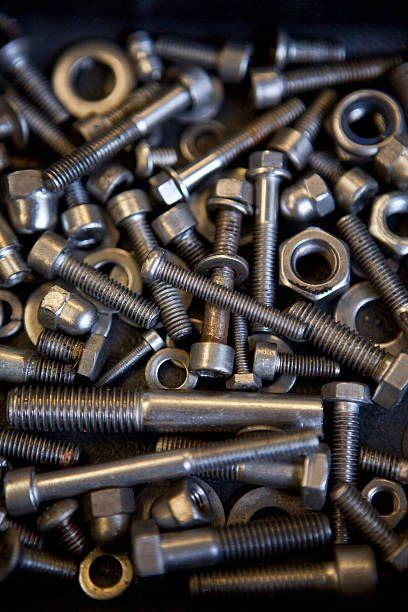metal: (2, 421, 320, 520), (48, 60, 217, 194), (147, 97, 307, 210), (137, 246, 309, 346), (6, 384, 332, 436), (283, 297, 408, 406), (133, 509, 336, 575), (28, 230, 155, 329), (196, 546, 378, 605), (336, 212, 408, 335), (252, 55, 404, 108), (329, 480, 408, 572), (320, 379, 364, 541), (50, 35, 136, 116), (0, 34, 71, 126), (275, 226, 351, 302), (332, 88, 408, 161), (150, 35, 258, 85), (307, 147, 378, 207), (39, 495, 99, 566), (79, 547, 136, 604), (267, 29, 349, 67), (37, 281, 97, 331), (284, 171, 329, 224)
